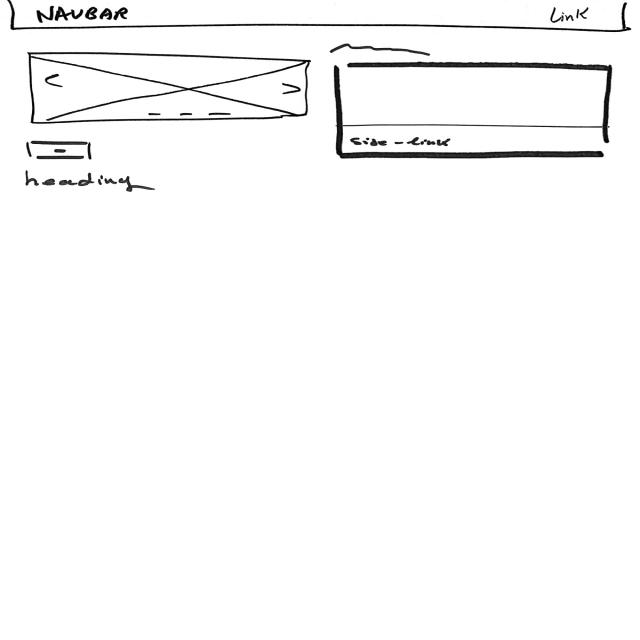container: (331, 59, 613, 165), (6, 1, 633, 33)
icon-button: (22, 136, 96, 166)
image: (25, 50, 311, 124)
label: (21, 171, 155, 199), (28, 4, 138, 26), (349, 134, 456, 152), (545, 6, 595, 27)
text: (325, 42, 437, 58)
